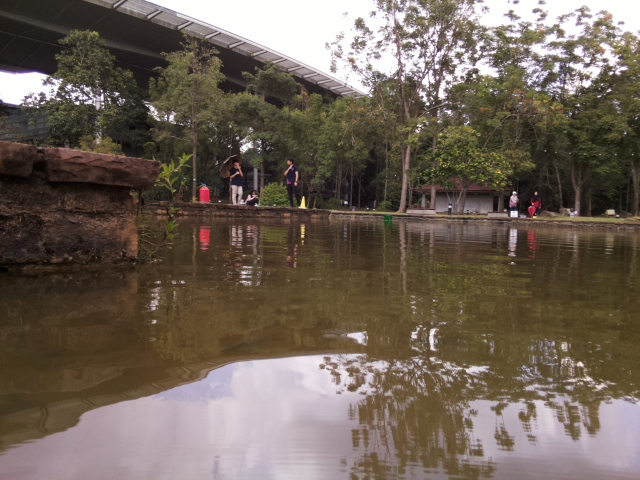checkpoint: (296, 193, 310, 210)
obstacle: (383, 214, 393, 220)
